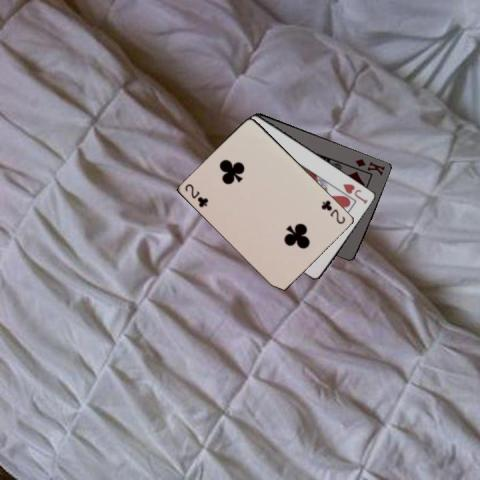2c: (318, 198, 346, 226), (182, 180, 210, 208)
Jh: (340, 181, 369, 205)
Kd: (352, 155, 387, 177)
